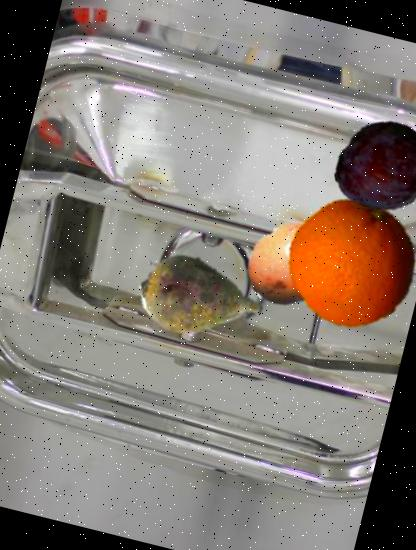Beetroot: (121, 219, 281, 379)
Granadilla: (233, 195, 363, 325)
Orange: (274, 184, 416, 342)
Plum: (323, 106, 416, 226)
